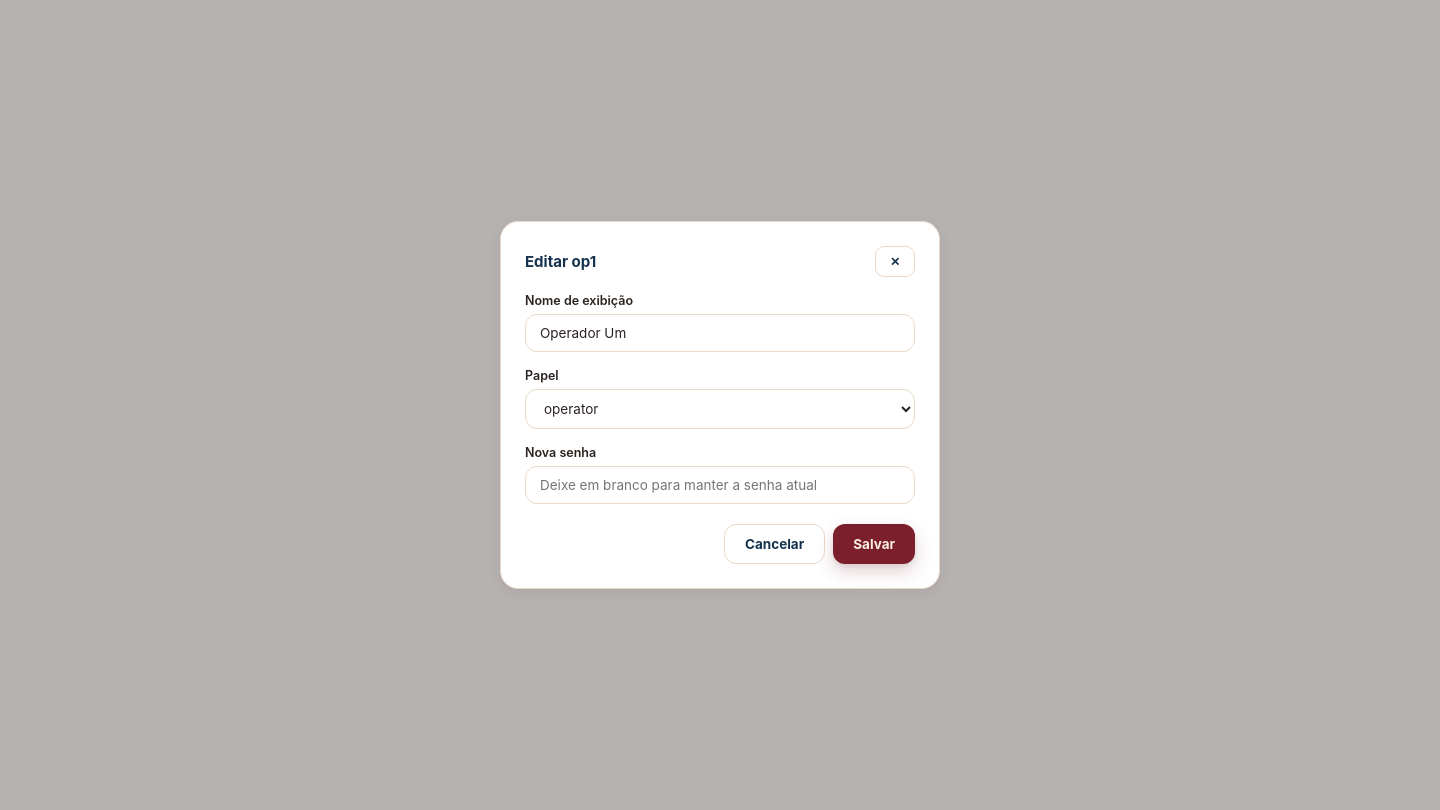
Scenario: UserEditModal › mostra um erro genérico quando a falha não é um erro de domínio
Click the button with test id "edit-user-submit".
click(874, 544)  # box top-left (833, 524), bottom-right (915, 564)
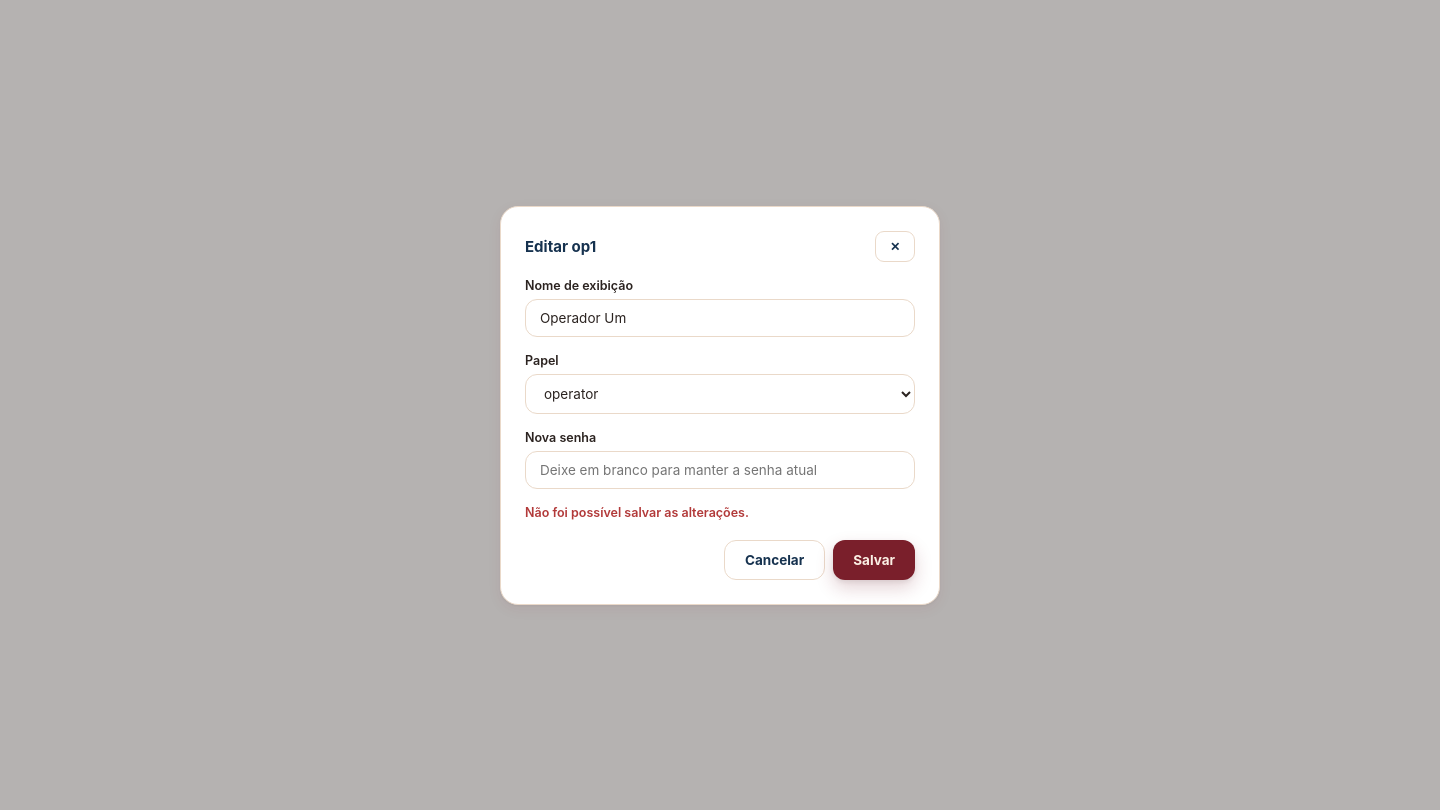
expect the text "Não foi possível salvar as alterações." is shown: met, box top-left (525, 504), bottom-right (749, 520)
